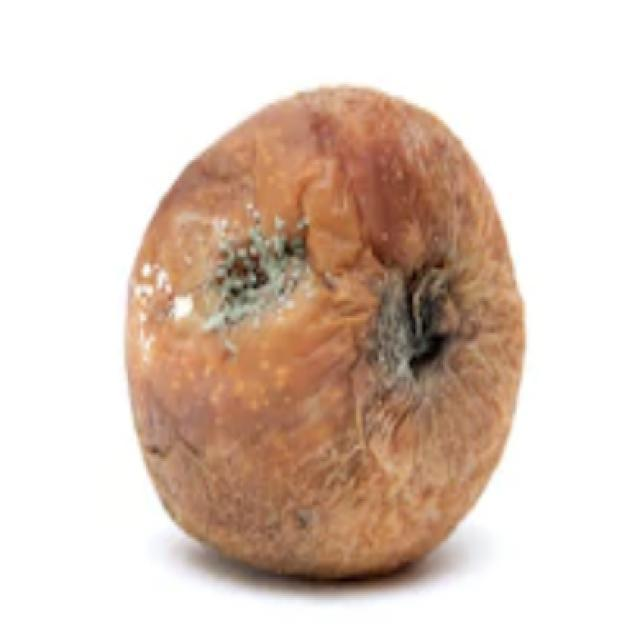Rotten: (130, 85, 568, 593)
